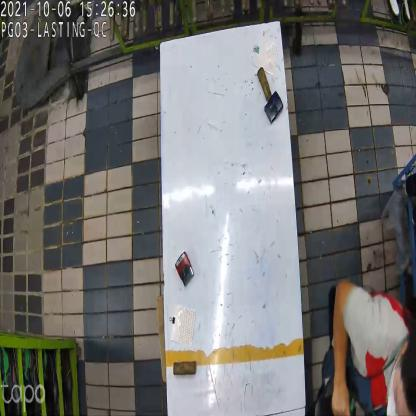stamp: (264, 88, 284, 122), (177, 249, 193, 282)
